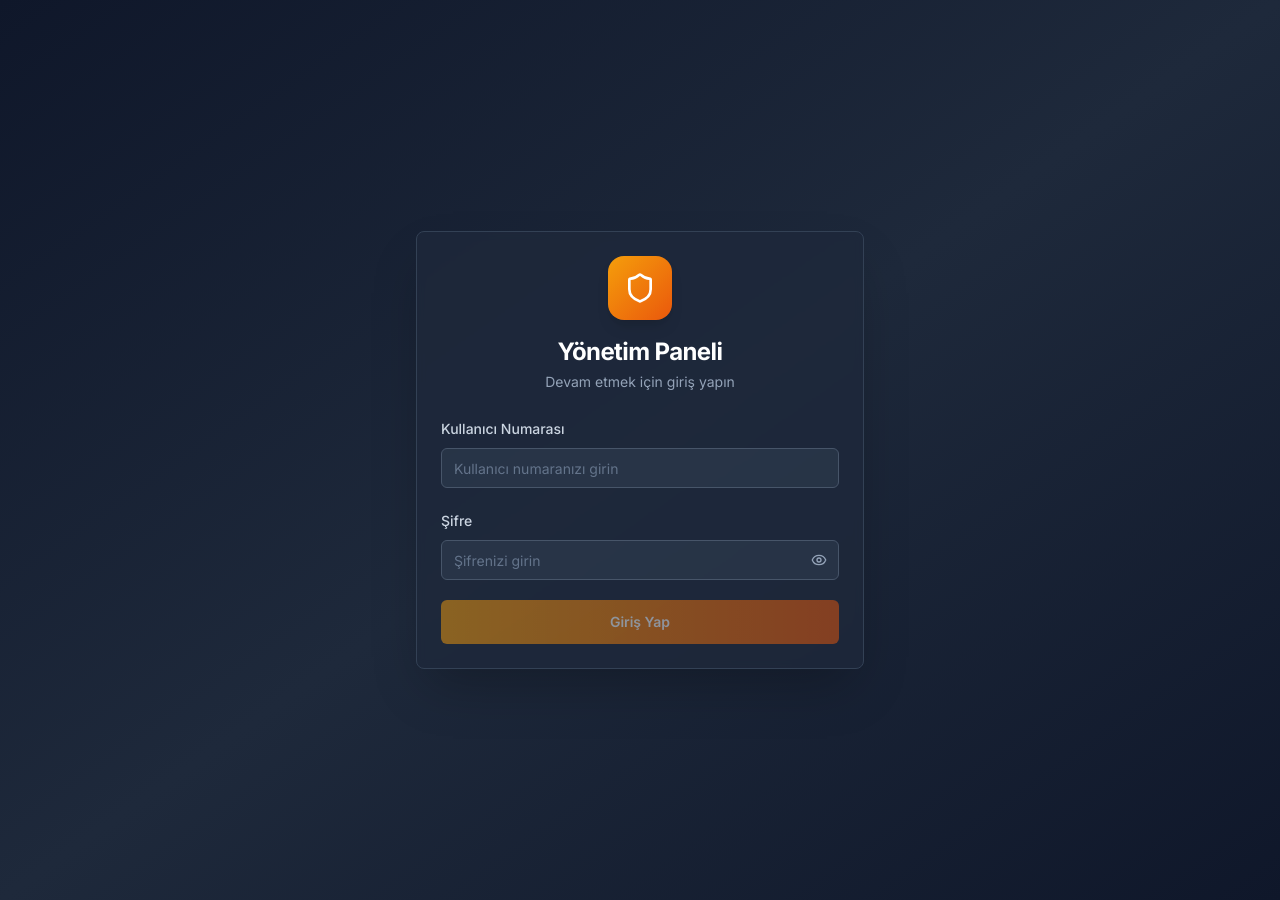
Test: Admin Login Page (L5 RTL) › enables submit button when both fields filled
The width and height of the screenshot is (1280, 900).
Step 1. Type "admin1" into the field with placeholder "Kullanıcı numaranızı girin" → (640, 468), box [441,448,839,488]
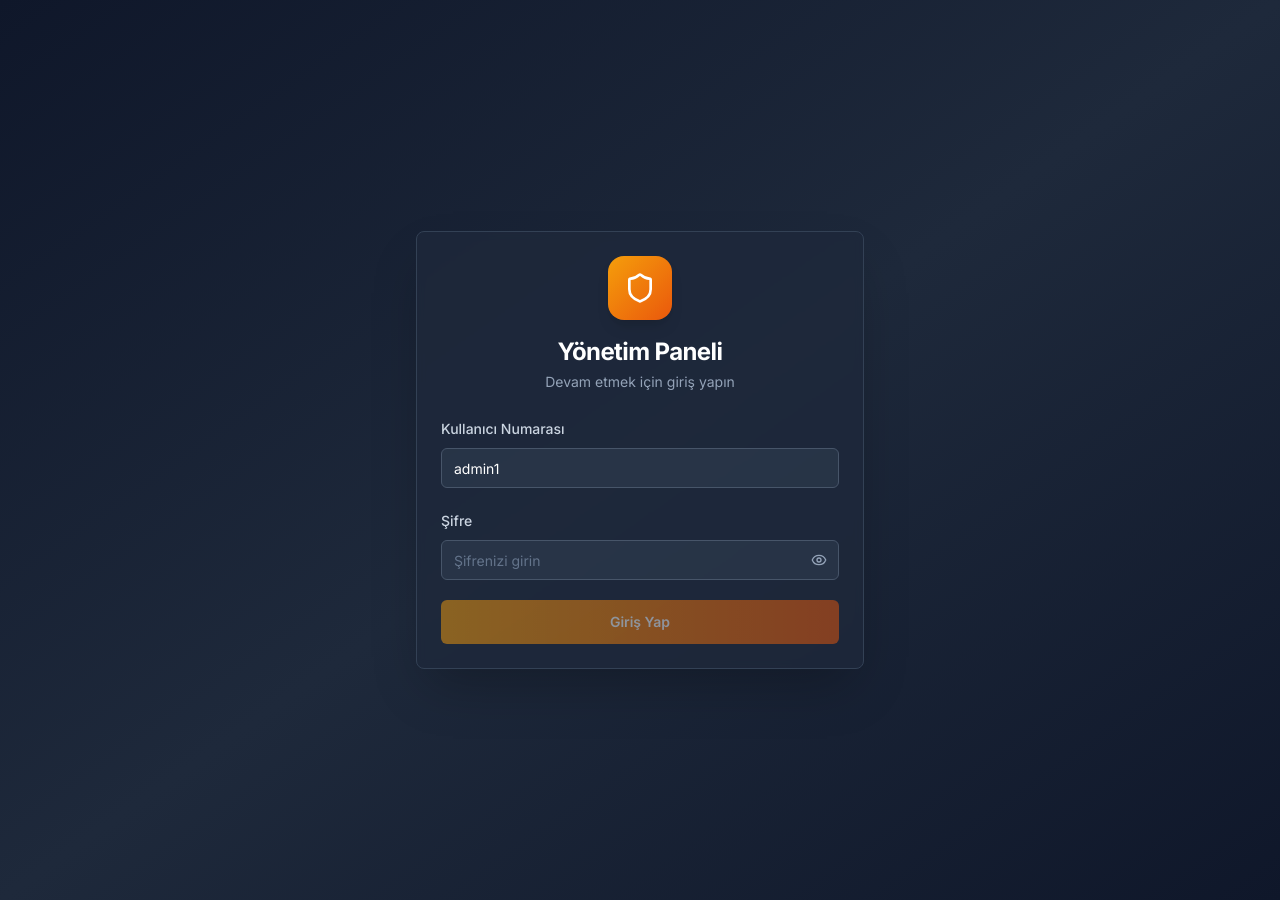
Step 2. Type "pass123" into the password field with placeholder "Şifrenizi girin" → (640, 560), box [441,540,839,580]
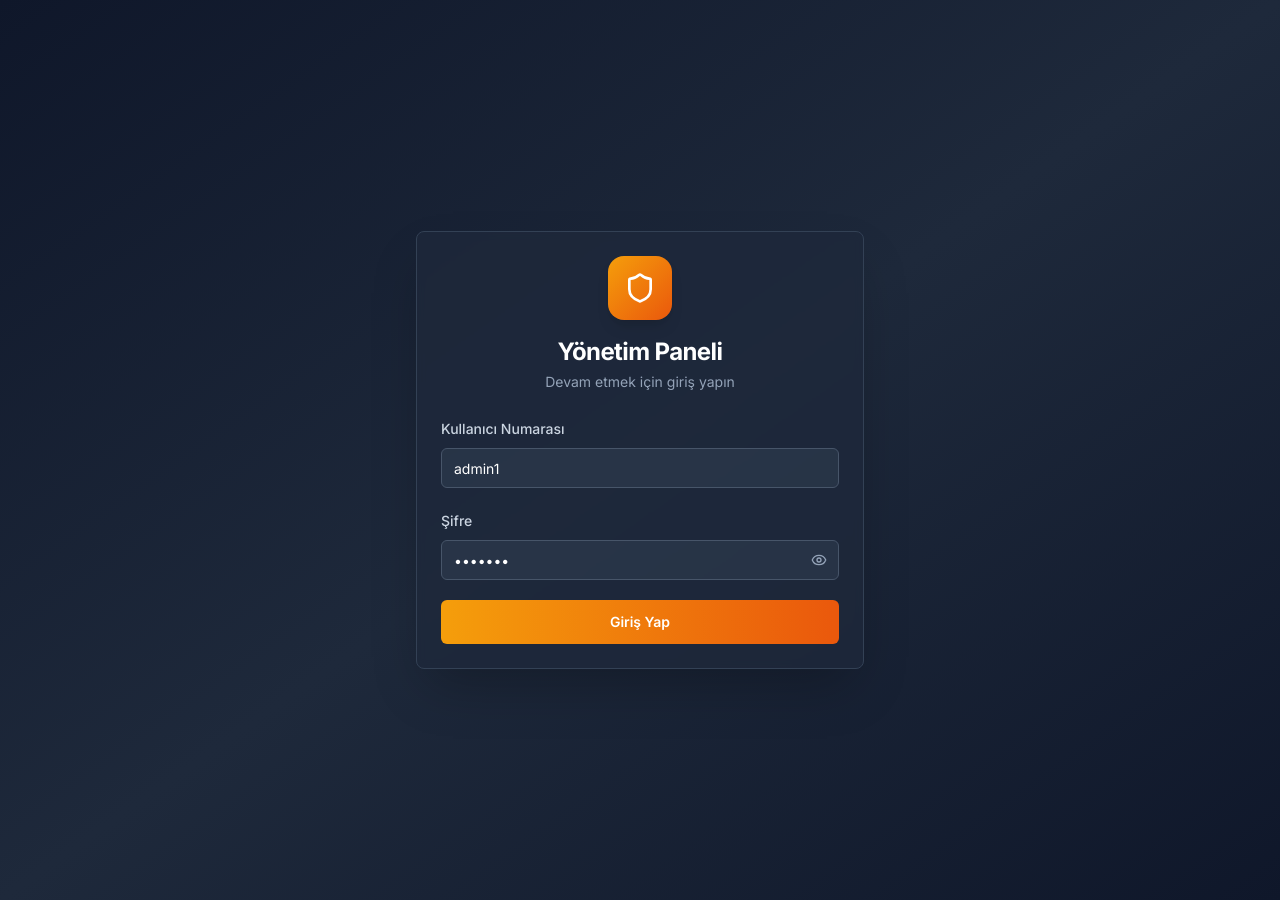
expect the button "Giriş Yap" is enabled: met, box [441,600,839,644]
